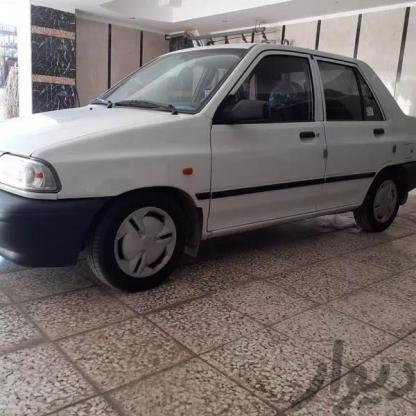Car: (0, 46, 416, 280)
